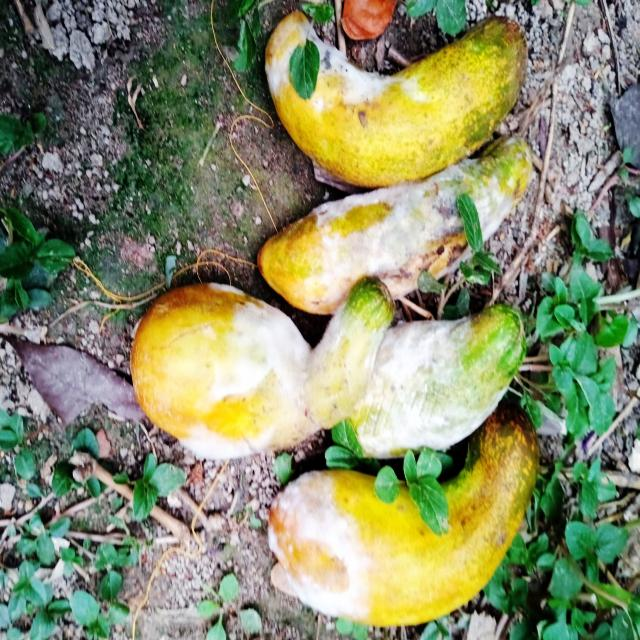Pythium-Fruit-Rot: (178, 274, 386, 458), (312, 158, 516, 306), (351, 315, 508, 455), (269, 9, 414, 118), (269, 471, 370, 618)
